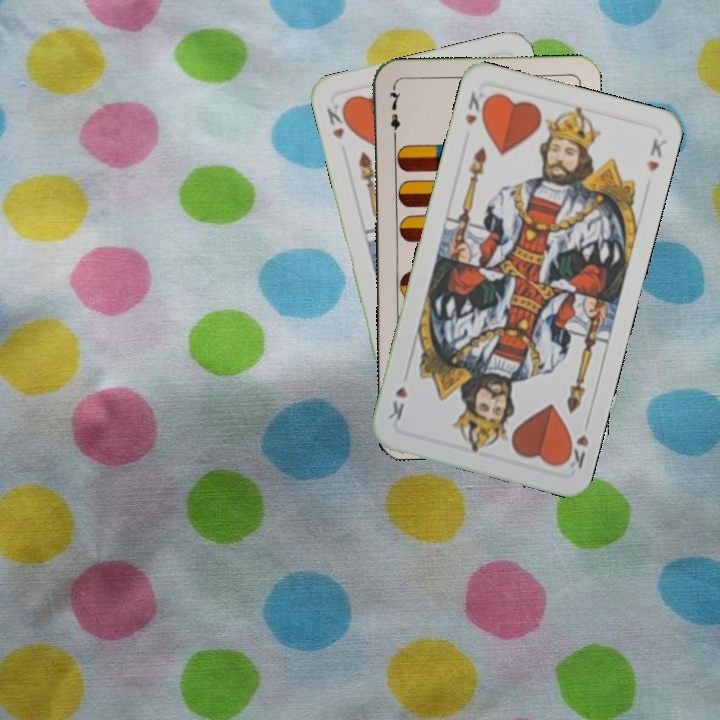E7: (384, 84, 403, 143)
HK: (559, 414, 593, 471), (322, 97, 353, 142), (461, 87, 492, 128)
